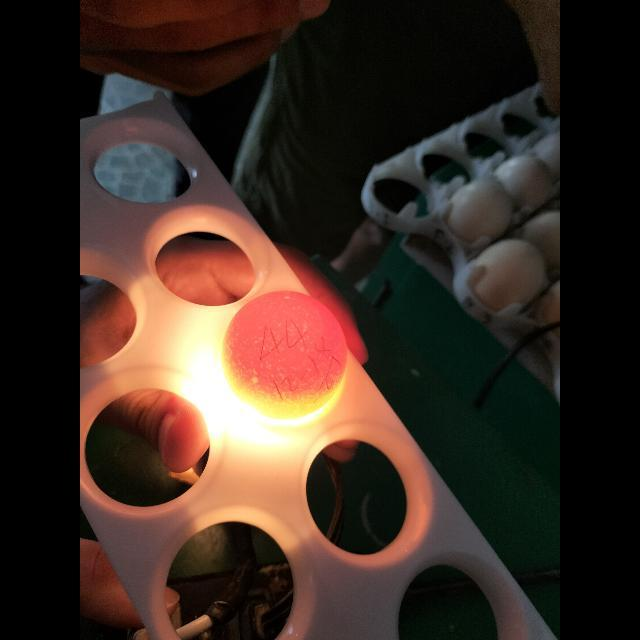Infertile: (222, 293, 350, 415)
